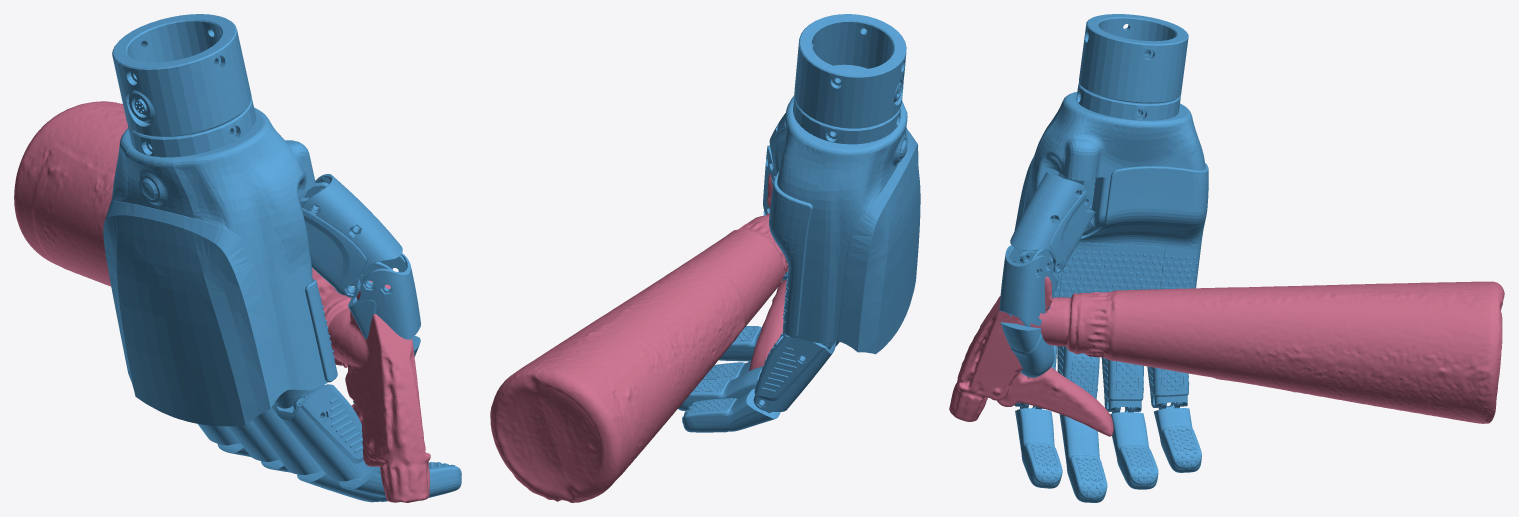
3 renders of one model, left to right at view 1: azimuth 30°, elevation 25°; view 2: azimuth 150°, elevation 25°; view 3: azimuth 270°, elevation 25°, orthographic. The views are drawn at different scales.
Visible parts, largest first — view 1: 9; view 2: 9; view 3: 9.
Part boxes in pixels (<box>): 9: <box>14,14,461,502</box>; 9: <box>490,14,920,502</box>; 9: <box>949,14,1504,502</box>.
Size of the model in its own units: 0.1271 by 0.2142 by 0.2685.
